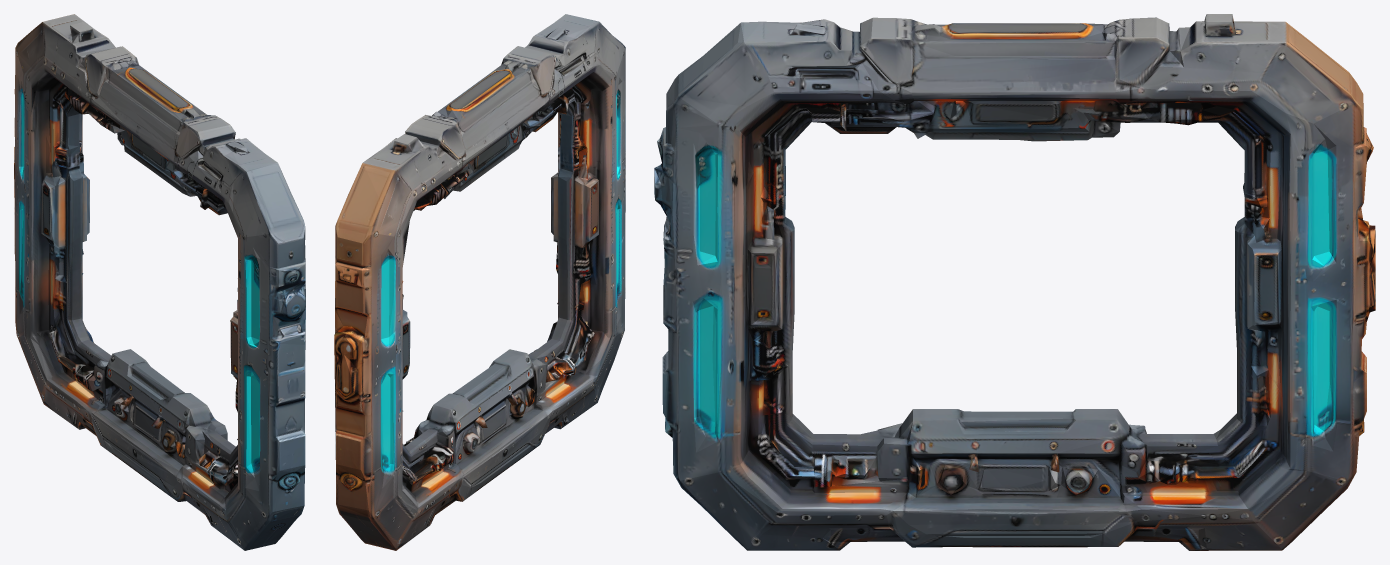
Rendered from tripo_convert_d8bc8cfd-3adc-4e87-b495-f4fa75f4349a.obj.
3 renders of one model, left to right at view 1: azimuth 30°, elevation 25°; view 2: azimuth 150°, elevation 25°; view 3: azimuth 270°, elevation 25°, orthographic. The views are drawn at different scales.
Parts seen in each view (by area): view 1: tripo_node_d8bc8cfd-3adc-4e87-b495-f4fa75f4349a; view 2: tripo_node_d8bc8cfd-3adc-4e87-b495-f4fa75f4349a; view 3: tripo_node_d8bc8cfd-3adc-4e87-b495-f4fa75f4349a.
Part boxes in pixels (left/top/right/bottom): tripo_node_d8bc8cfd-3adc-4e87-b495-f4fa75f4349a: left=14, top=14, right=305, bottom=550; tripo_node_d8bc8cfd-3adc-4e87-b495-f4fa75f4349a: left=334, top=14, right=625, bottom=550; tripo_node_d8bc8cfd-3adc-4e87-b495-f4fa75f4349a: left=654, top=14, right=1375, bottom=550.
Bounding box in the file's own units: 0.1109 × 0.7986 × 0.9998.
1 material, 1 textured.
